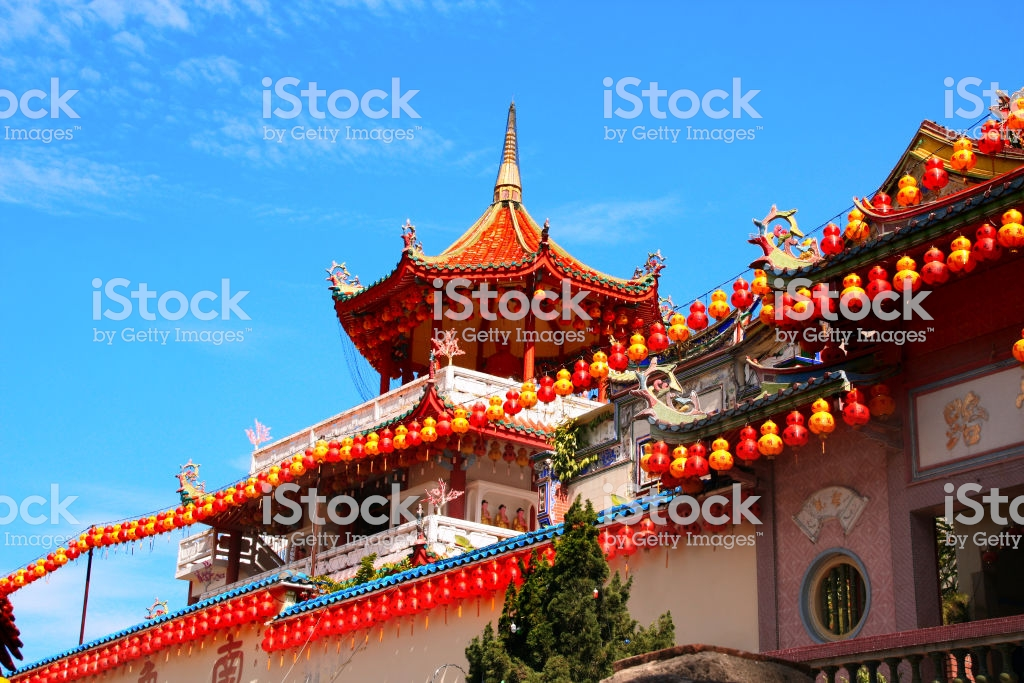Buddhist Temple: (334, 93, 655, 571)
